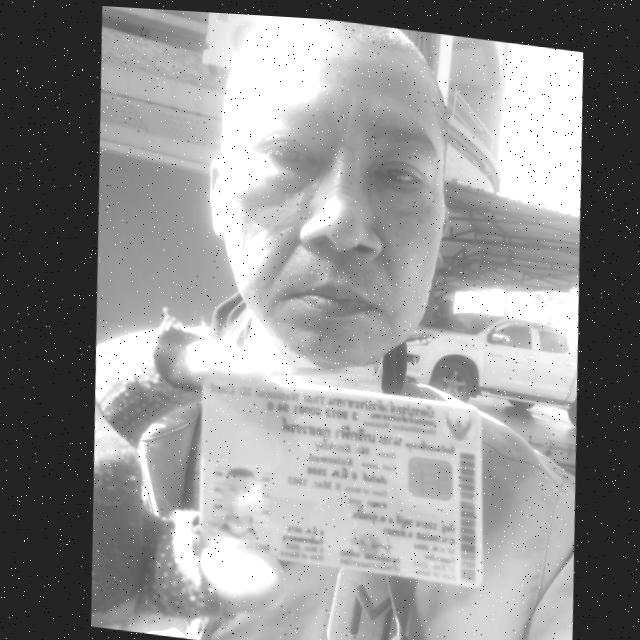card: (200, 380, 482, 586)
